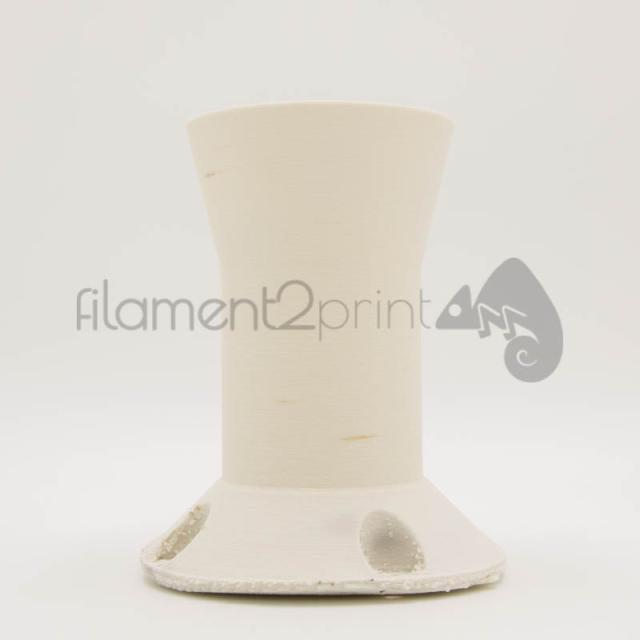Warping: (177, 548, 582, 623)
